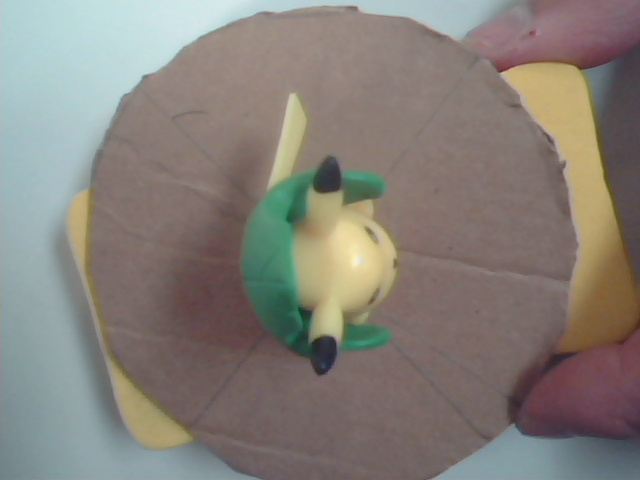pikachu: (154, 87, 514, 427)
